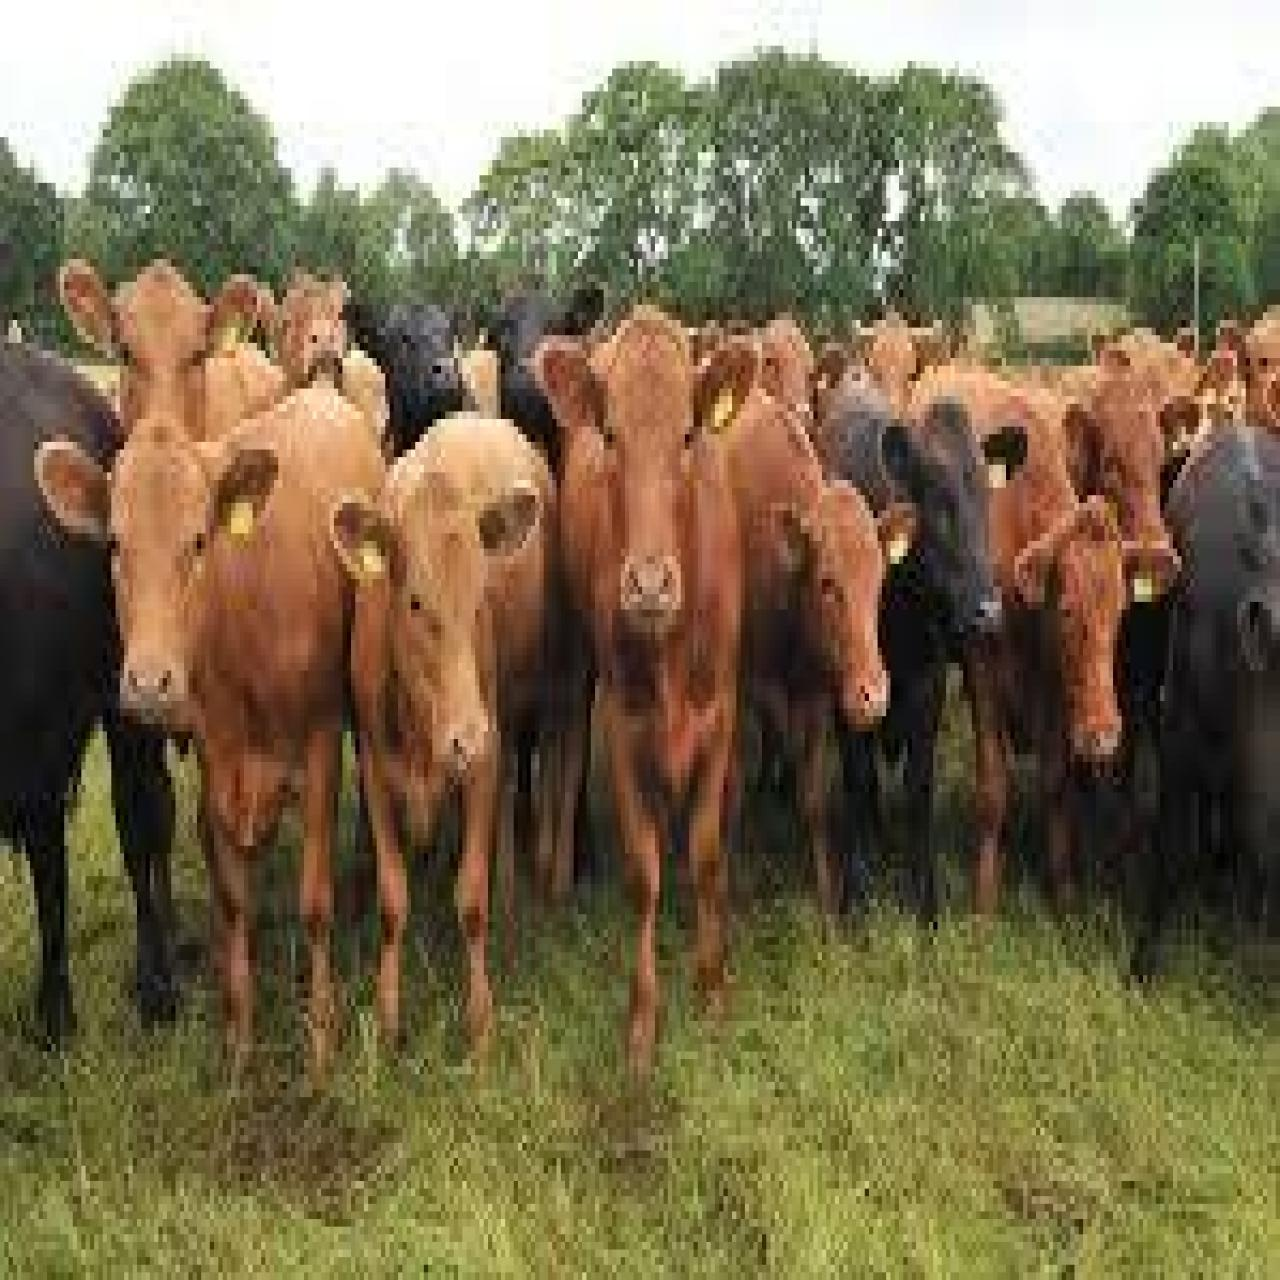cow: (39, 393, 389, 1077), (536, 313, 771, 1097), (912, 362, 1182, 933), (329, 408, 557, 1078), (717, 384, 914, 956), (829, 396, 1026, 937), (57, 259, 290, 457), (340, 293, 469, 430)
